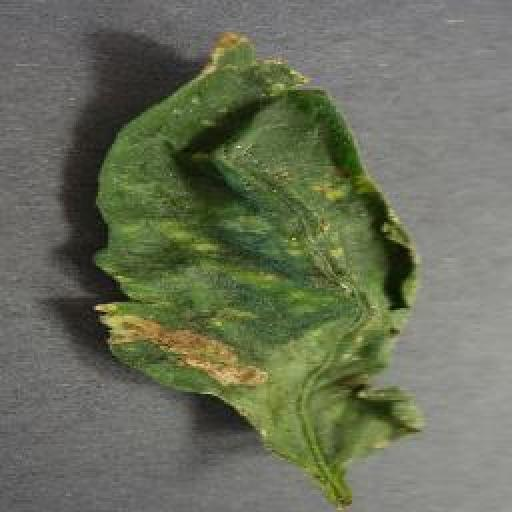Bacterial Spot: (93, 26, 432, 462)
